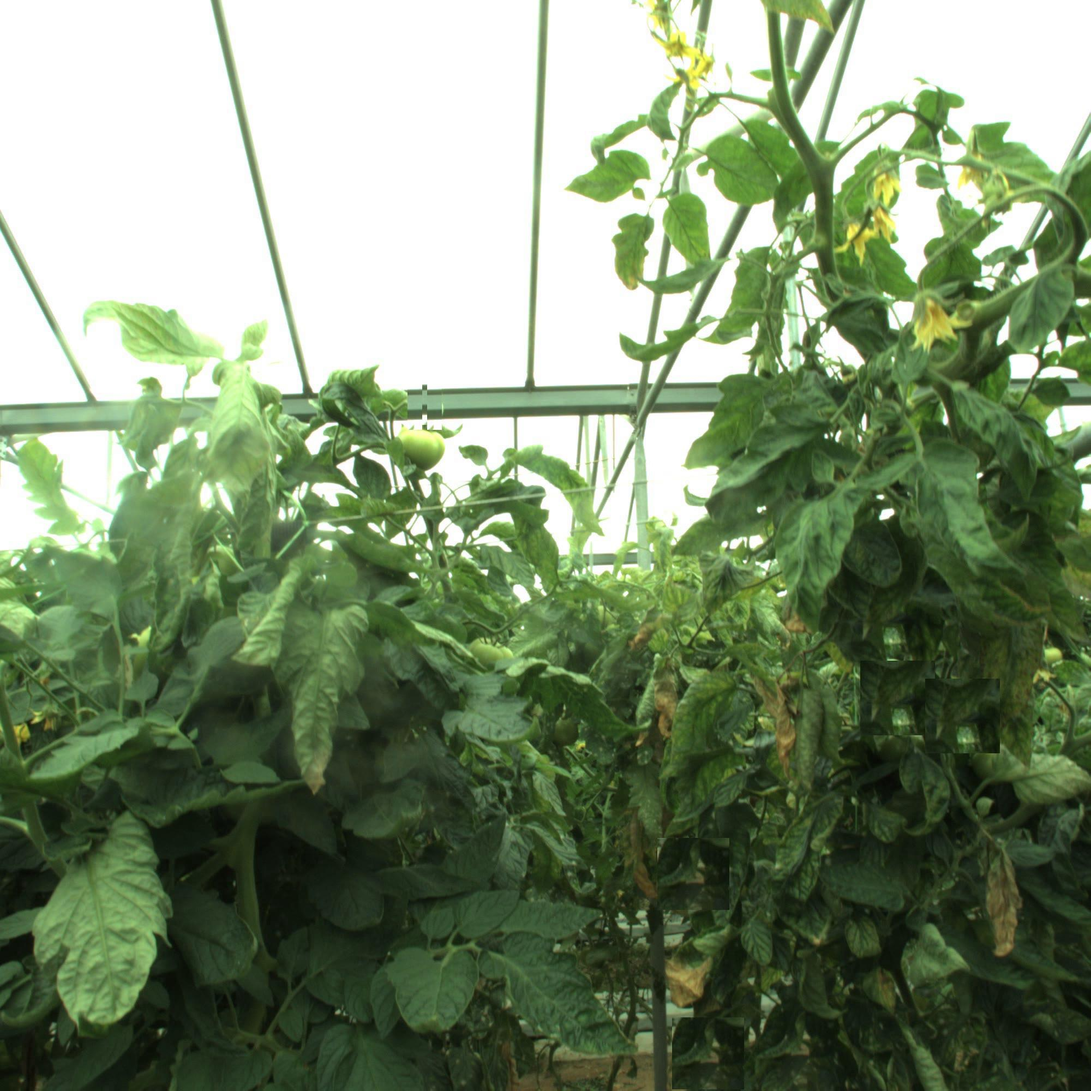unripe: (399, 422, 447, 470)
